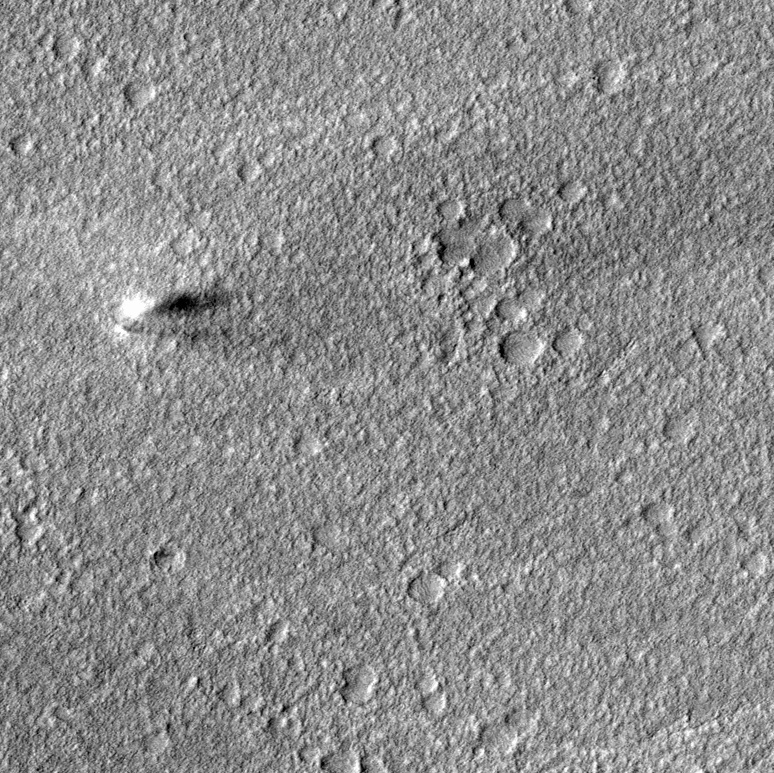dust_devil: (114, 288, 237, 336)
